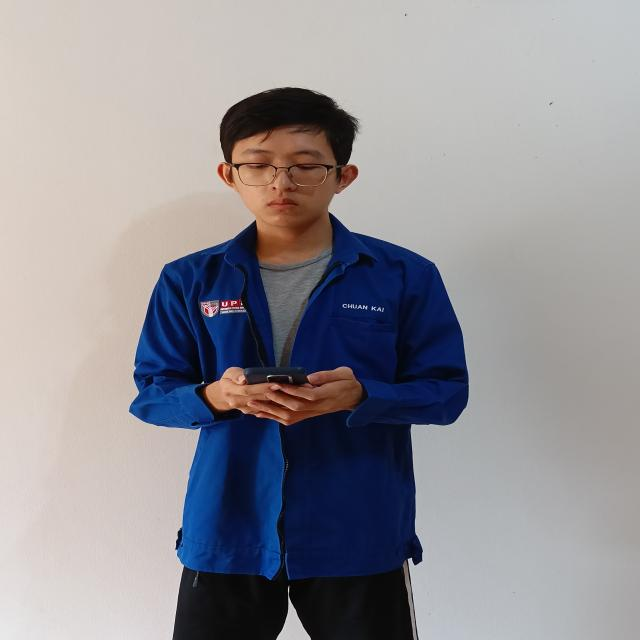person_with_labcoat: (131, 88, 468, 640)
